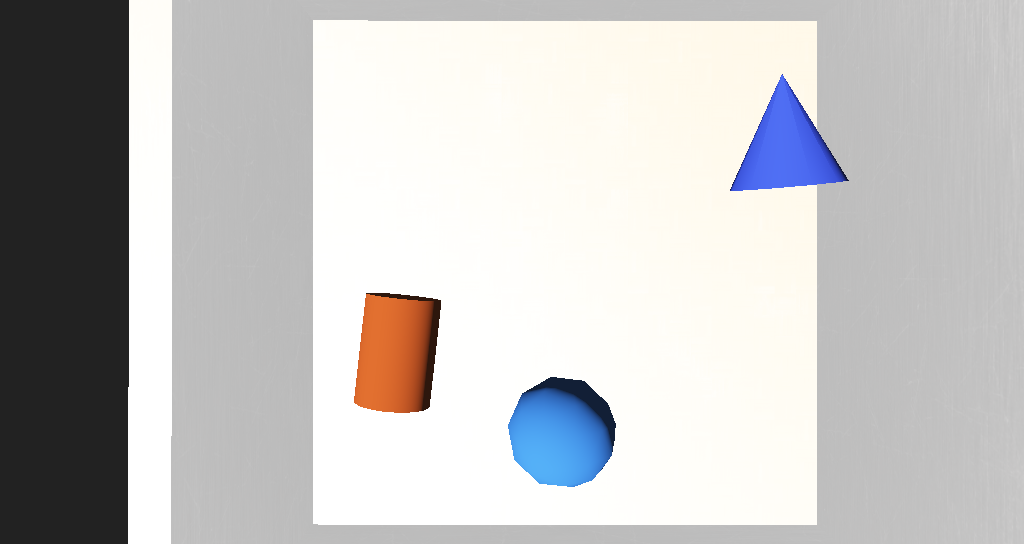cone: (377, 277, 431, 324)
cylinder: (596, 179, 670, 241)
sphere: (475, 313, 536, 356)
